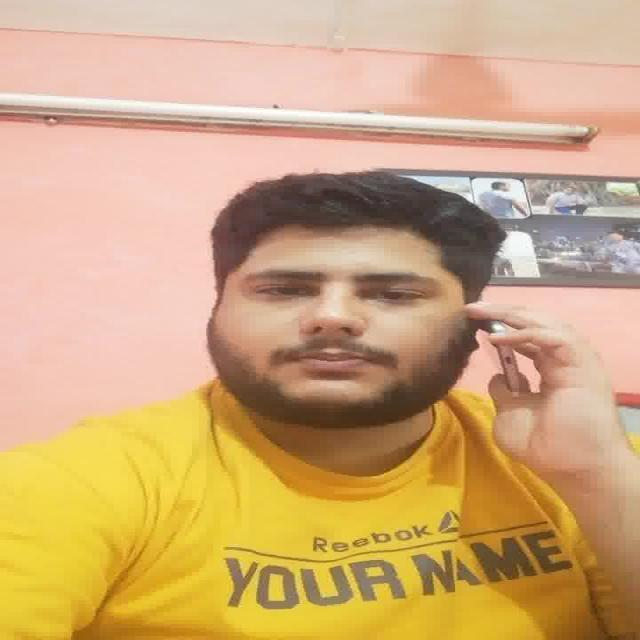Phone: (492, 319, 530, 406)
